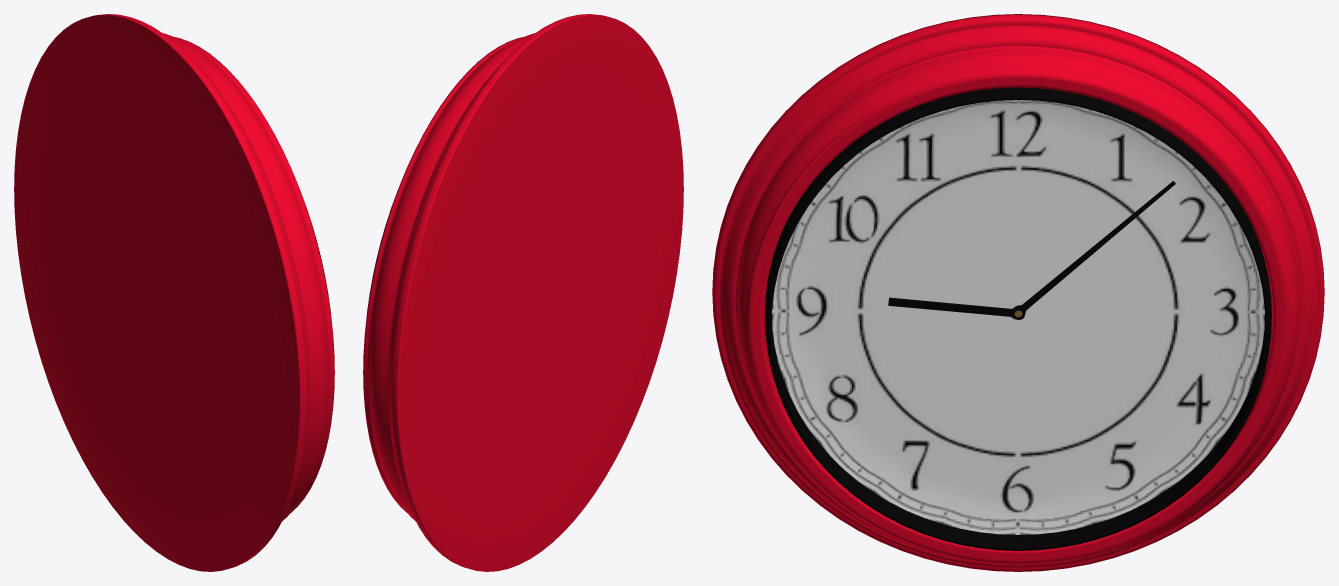
3 renders of one model, left to right at view 1: azimuth 30°, elevation 25°; view 2: azimuth 150°, elevation 25°; view 3: azimuth 270°, elevation 25°, orthographic. The views are drawn at different scales.
Visible parts, largest first — view 1: Object_2; view 2: Object_2; view 3: Object_5, Object_2, Object_4, Object_6.
Part boxes in pixels (box(x1,y1,x2,y2)): Object_2: box(14, 14, 334, 571); Object_2: box(363, 14, 683, 571); Object_5: box(772, 100, 1264, 534); Object_2: box(712, 14, 1324, 571); Object_4: box(765, 87, 1271, 550); Object_6: box(888, 181, 1175, 319).
Bounding box in the file's own units: 1.59 × 12.77 × 12.77.
5 materials, 1 textured.
